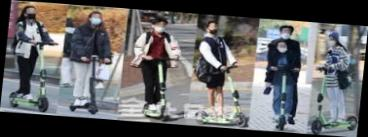helmet: (307, 29, 368, 136)
multiple: (258, 23, 310, 132)
nonhelmet: (189, 19, 259, 128), (2, 4, 63, 113), (126, 14, 186, 120), (66, 9, 119, 114)
